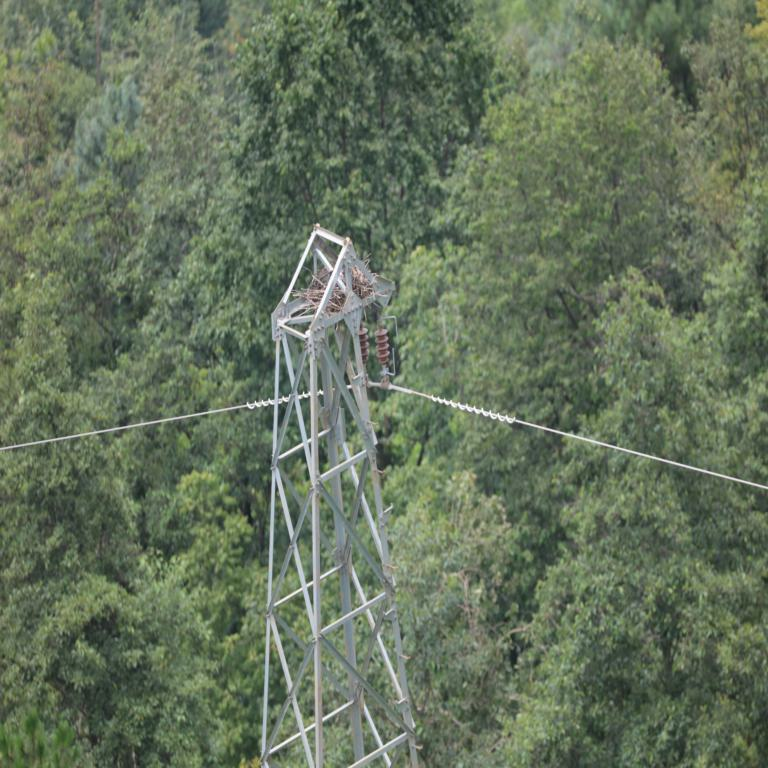nest: (308, 265, 376, 318)
